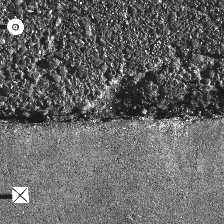circle: (7, 19, 24, 35)
crack: (1, 105, 223, 126)
square: (11, 187, 29, 203)
